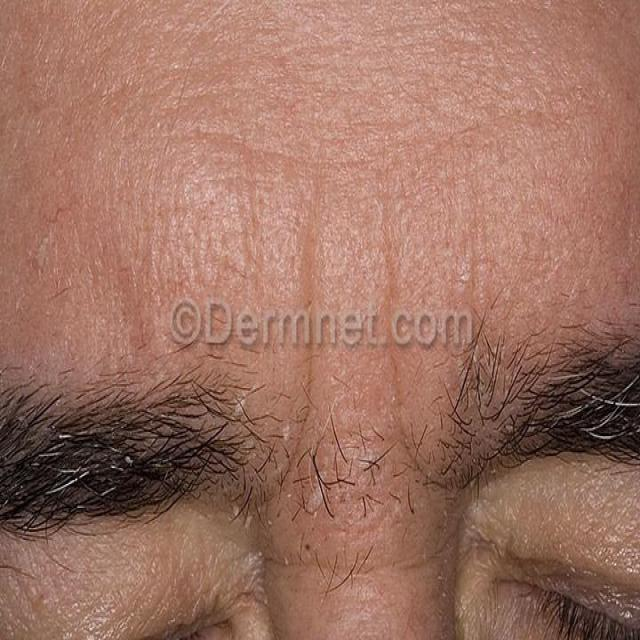Eczema: (4, 8, 640, 617)
